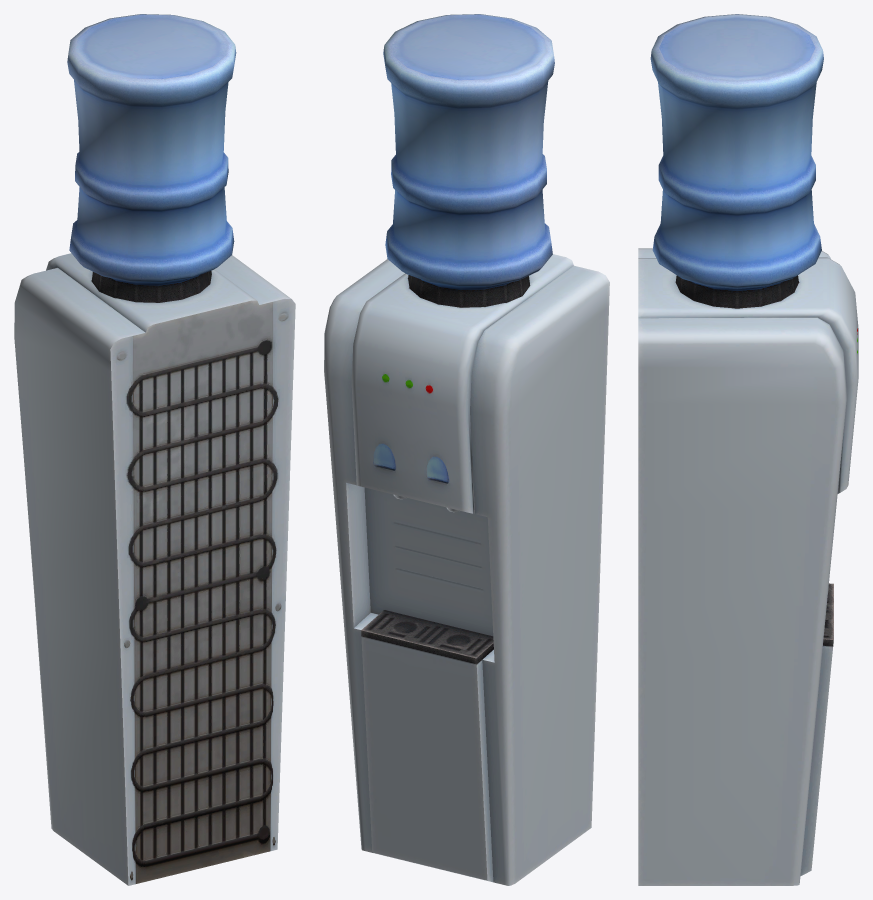
The model's file is OfficeWaterDispenser01.fbx.
3 renders of one model, left to right at view 1: azimuth 30°, elevation 25°; view 2: azimuth 150°, elevation 25°; view 3: azimuth 270°, elevation 25°, orthographic.
Parts seen in each view (by area): view 1: OfficeWaterDispenser01; view 2: OfficeWaterDispenser01; view 3: OfficeWaterDispenser01.
Part boxes in pixels (left/top/right/bottom): OfficeWaterDispenser01: left=14, top=14, right=295, bottom=885; OfficeWaterDispenser01: left=324, top=14, right=609, bottom=885; OfficeWaterDispenser01: left=638, top=14, right=858, bottom=885.
Bounding box in the file's own units: 0.5086 × 2.06 × 0.5143.
Materials: 1 (1 with a texture image).
